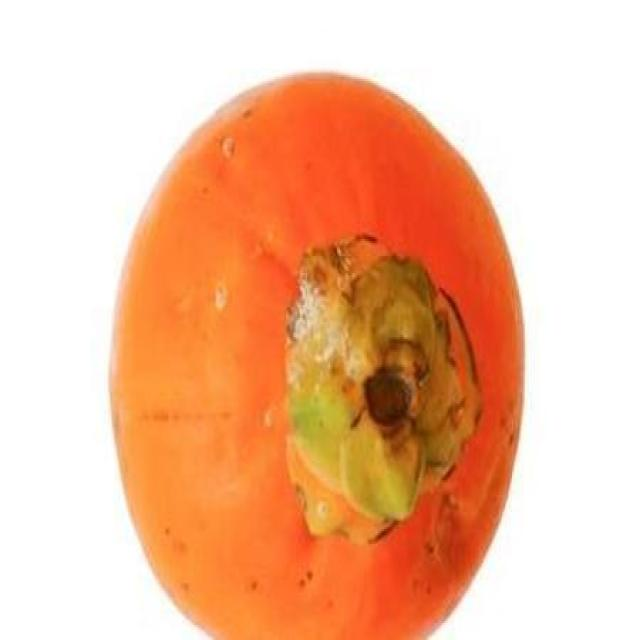good: (107, 70, 526, 638)
